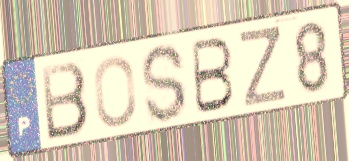8: (291, 19, 331, 96)
B: (39, 59, 91, 144), (190, 35, 237, 117)
O: (92, 53, 139, 130)
S: (139, 41, 190, 125)
Z: (237, 24, 289, 110)
